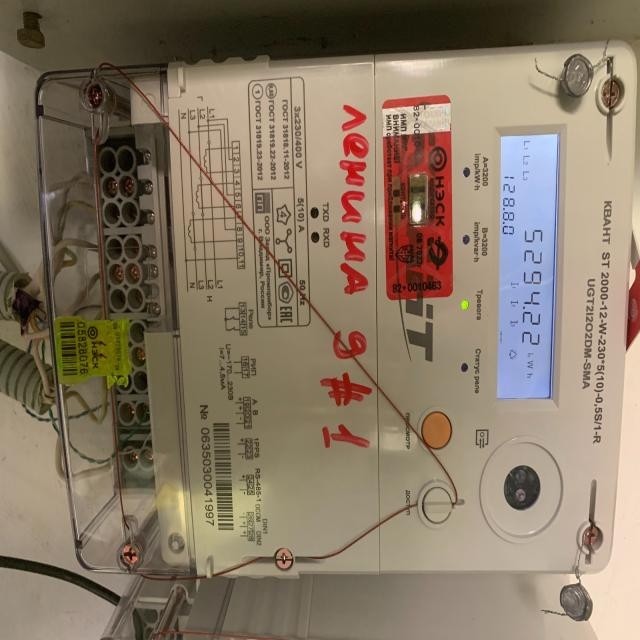Display: (498, 124, 558, 410)
Meter_kvant: (32, 52, 622, 599)
meter_number: (188, 395, 240, 551)
seal_elso: (53, 304, 134, 398)
seal_imp: (381, 98, 455, 298)
